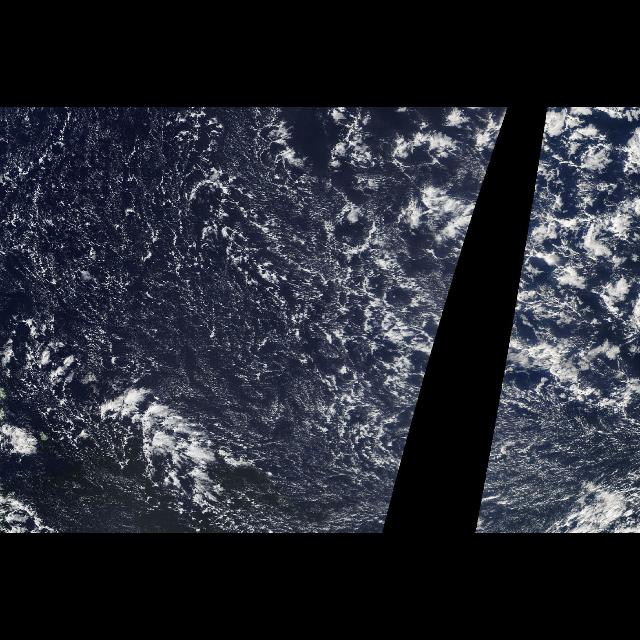Gravel: (4, 107, 510, 529), (495, 107, 639, 407)
Sugar: (118, 294, 438, 511), (474, 332, 640, 534)
